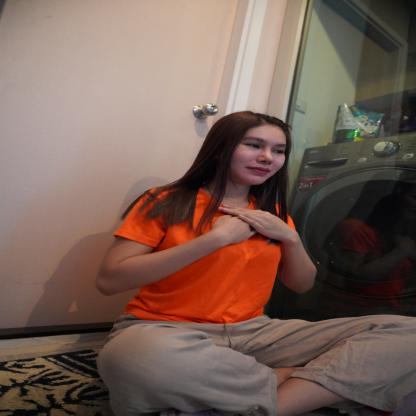Grieve: (194, 204, 302, 252)
